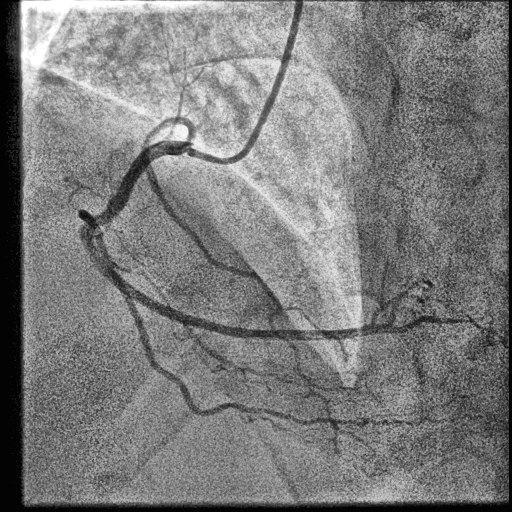pda: (375, 316, 485, 334)
rca: (79, 140, 375, 341)
